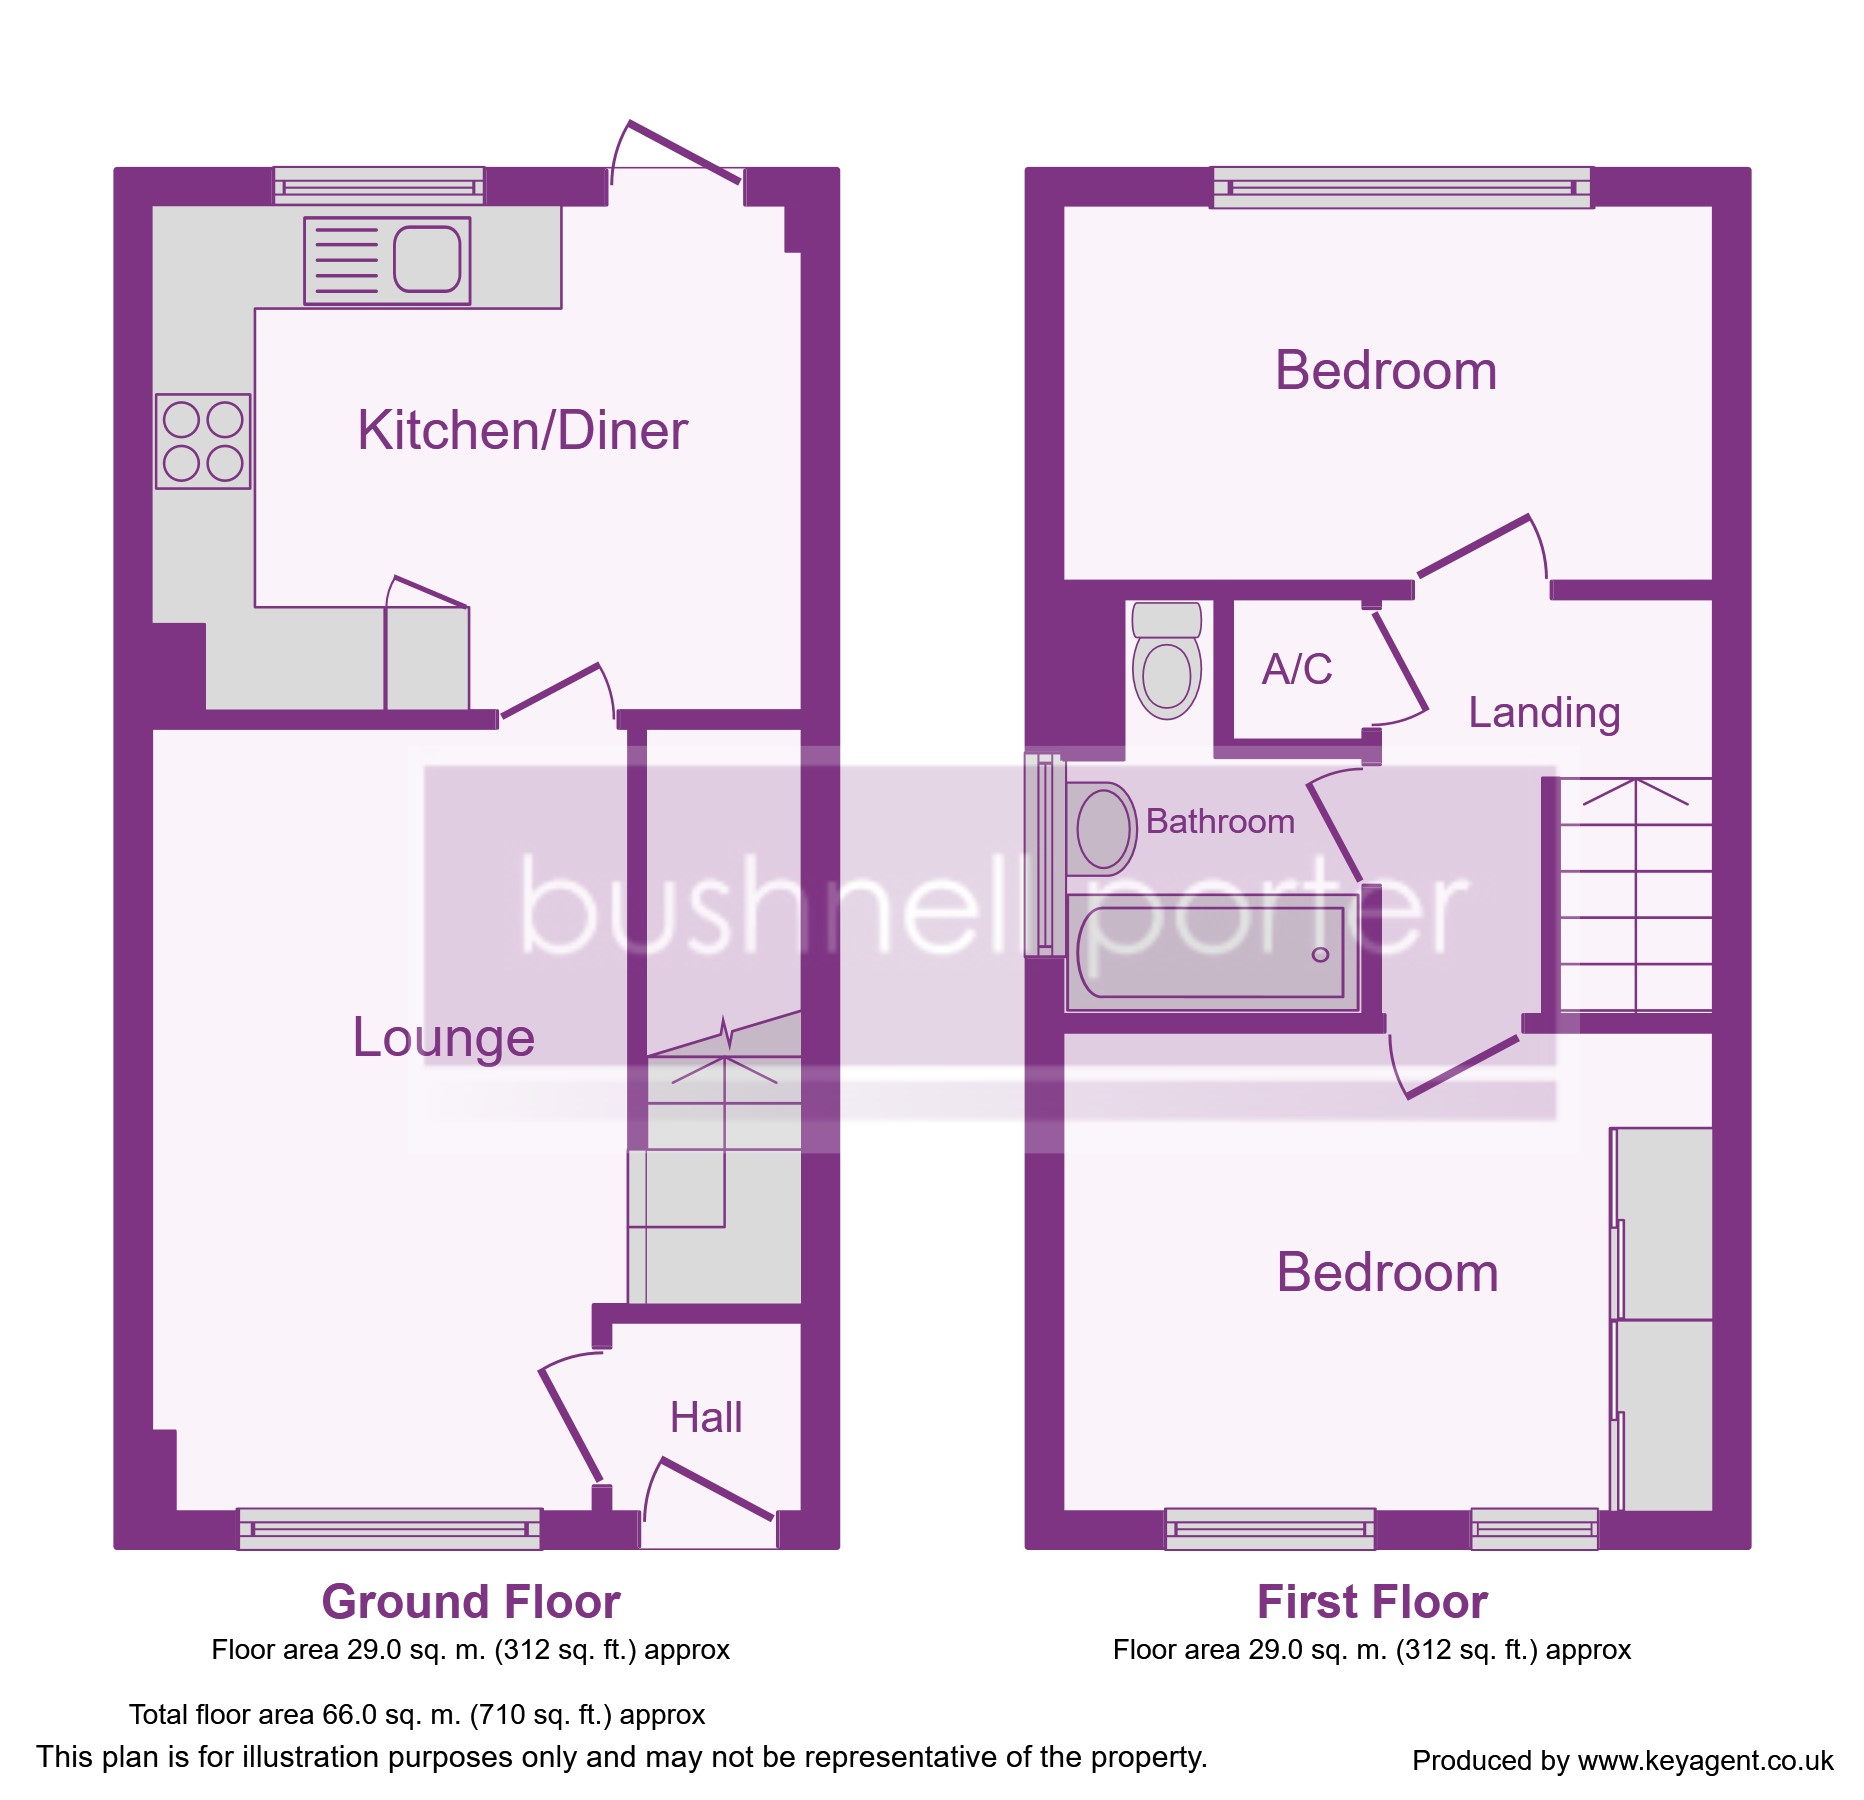window: (1208, 158, 1594, 215), (235, 1502, 548, 1555), (1160, 1499, 1380, 1559), (266, 158, 491, 215), (1015, 749, 1070, 960), (1466, 1502, 1601, 1557)
